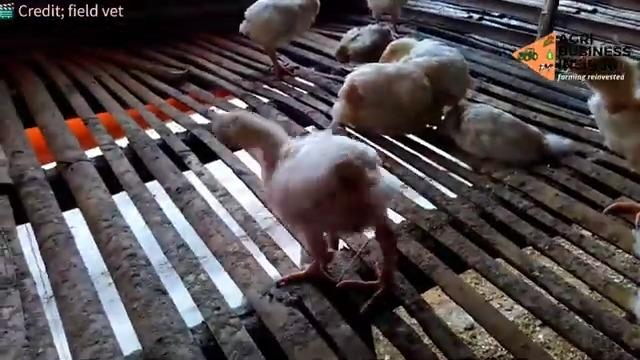AbNormal: (215, 118, 399, 299)
